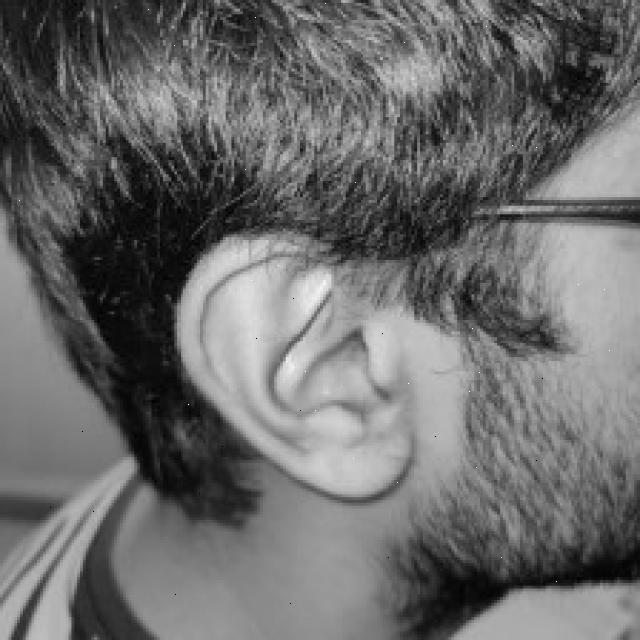ear: (180, 240, 406, 497)
